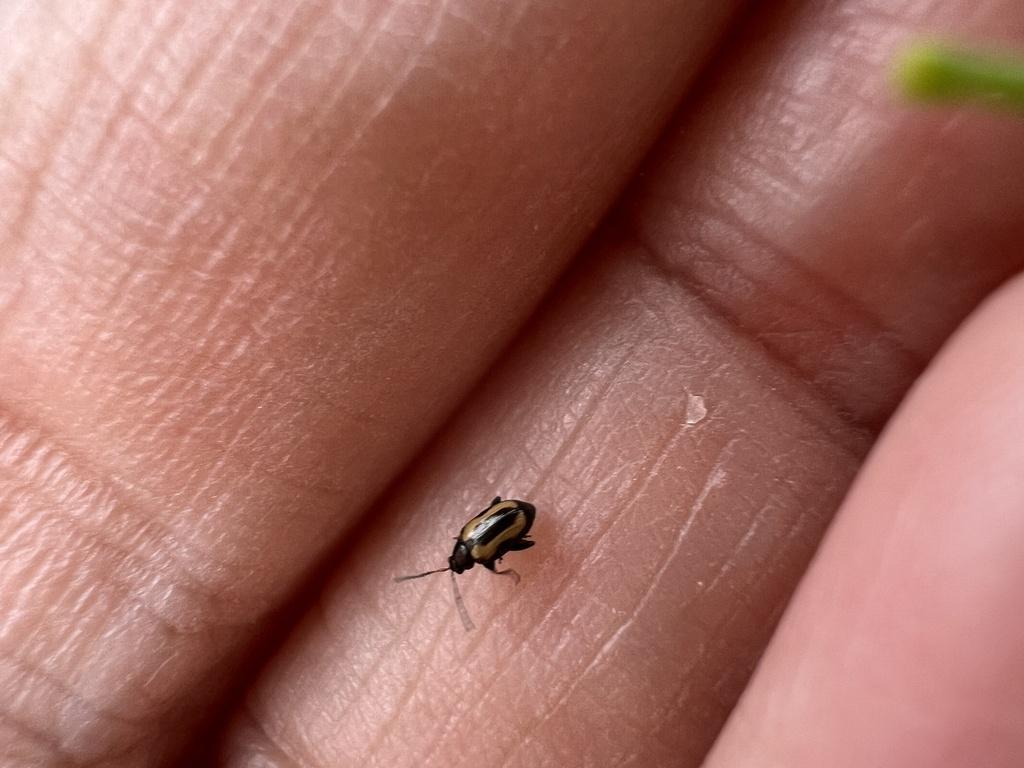flea_beetle: (379, 483, 560, 629)
